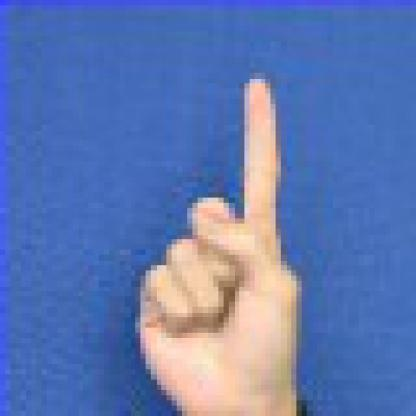one: (129, 65, 319, 416)
